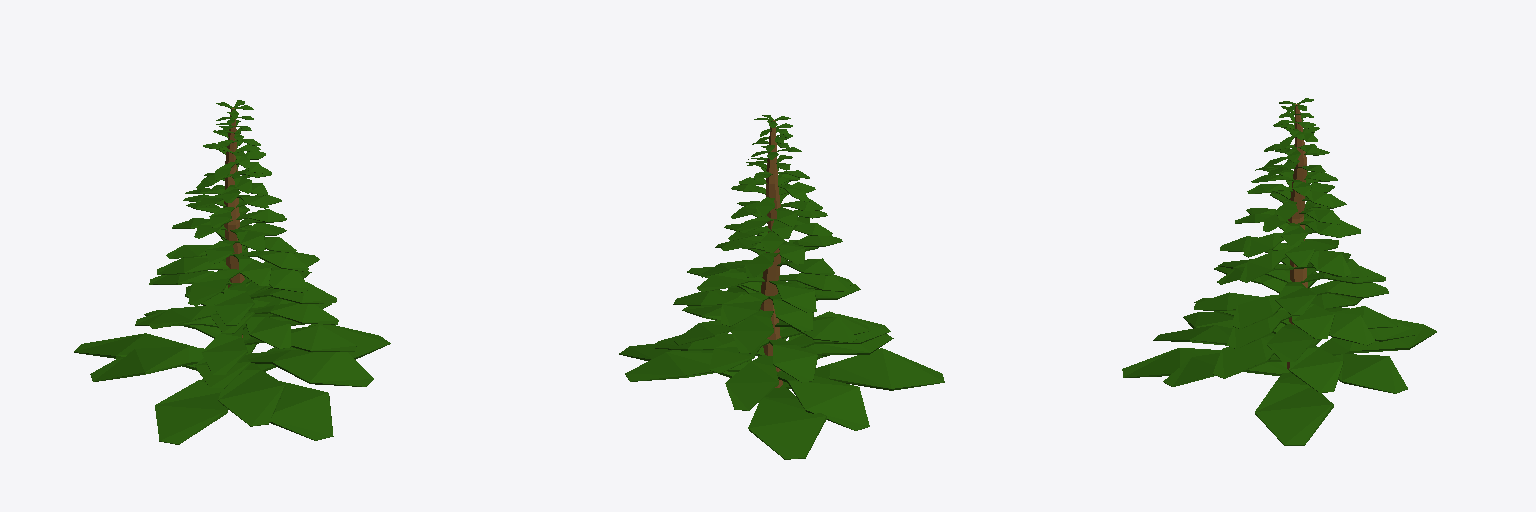
Rendered from pine_tree.obj.
The picture shows the model from 3 angles: view 1: azimuth 30°, elevation 25°; view 2: azimuth 150°, elevation 25°; view 3: azimuth 270°, elevation 25°; orthographic projection.
Visible parts, largest first — view 1: Plane, Cylinder; view 2: Plane, Cylinder; view 3: Plane, Cylinder.
Boxes of the visible parts, x1=… form: Plane: x1=74, y1=100, x2=390, y2=444; Cylinder: x1=224, y1=108, x2=244, y2=337; Plane: x1=619, y1=115, x2=944, y2=459; Cylinder: x1=760, y1=120, x2=782, y2=387; Plane: x1=1122, y1=98, x2=1436, y2=445; Cylinder: x1=1287, y1=104, x2=1307, y2=369.
Bounding box in the file's own units: 5.88 × 6.05 × 5.87.